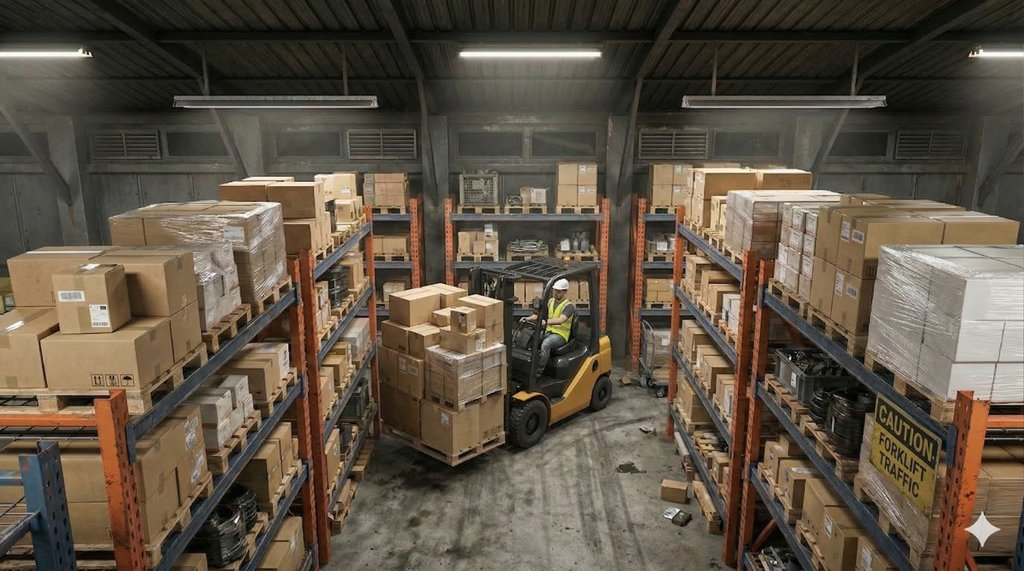forklift: (460, 249, 625, 456)
pallet: (9, 341, 226, 417), (860, 349, 968, 428), (848, 470, 934, 557), (376, 426, 529, 473), (805, 298, 871, 363), (797, 410, 848, 483), (196, 303, 257, 350), (766, 374, 811, 422), (768, 274, 815, 317), (427, 391, 532, 410), (252, 273, 301, 306), (548, 201, 598, 220), (504, 204, 551, 224), (458, 252, 500, 264), (458, 203, 503, 214), (369, 207, 407, 219)
person: (527, 273, 590, 380)
safety_helmet: (547, 277, 577, 294)
safety_signage: (860, 388, 952, 520)
safety_vest: (538, 295, 577, 349)
